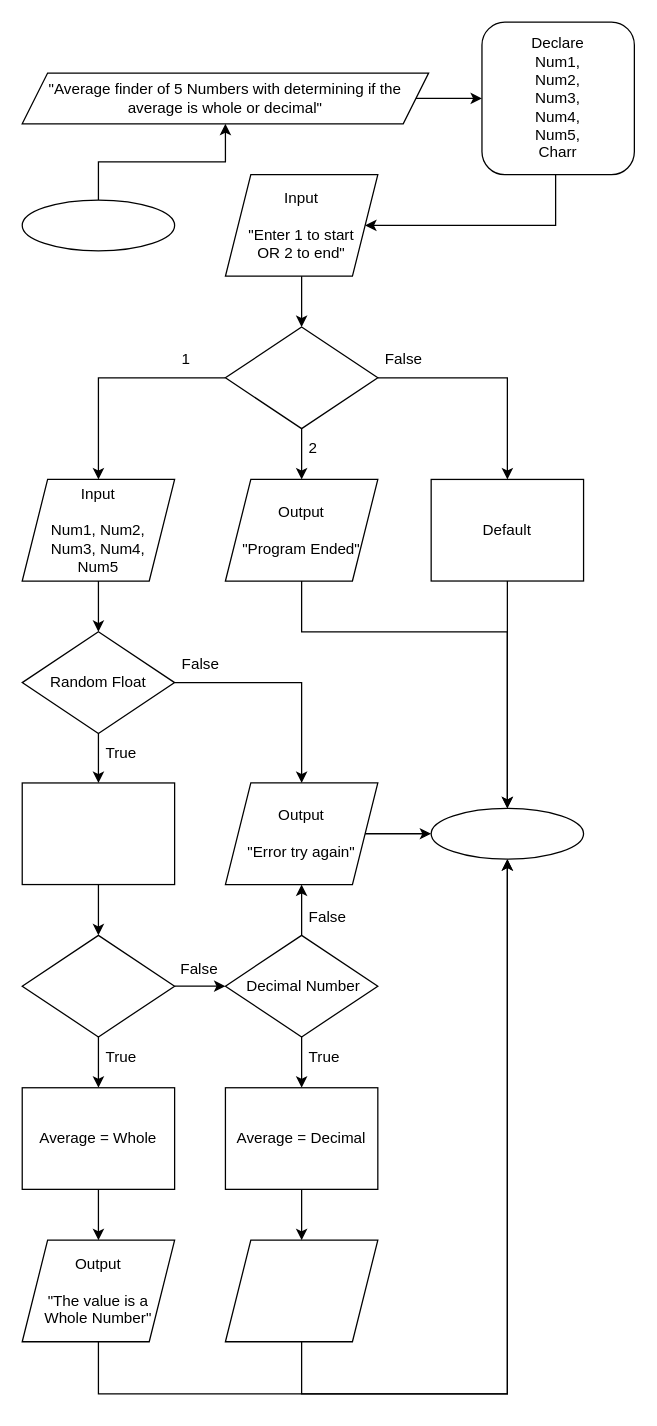
Some shapes in this 657 by 1426 pixel diagram are drawn without their labels. Here are the shapes that lost their labels. From the top down, the centre of each, then its label:
pixel 98 225: Start
pixel 301 377: Switch
pixel 98 833: Answer = Num1 + Num2 + Num3 + Num4 + Num5 / 5
pixel 507 833: STOP
pixel 98 985: Whole Number
pixel 301 1290: Output "The value is a Decimal Number"
